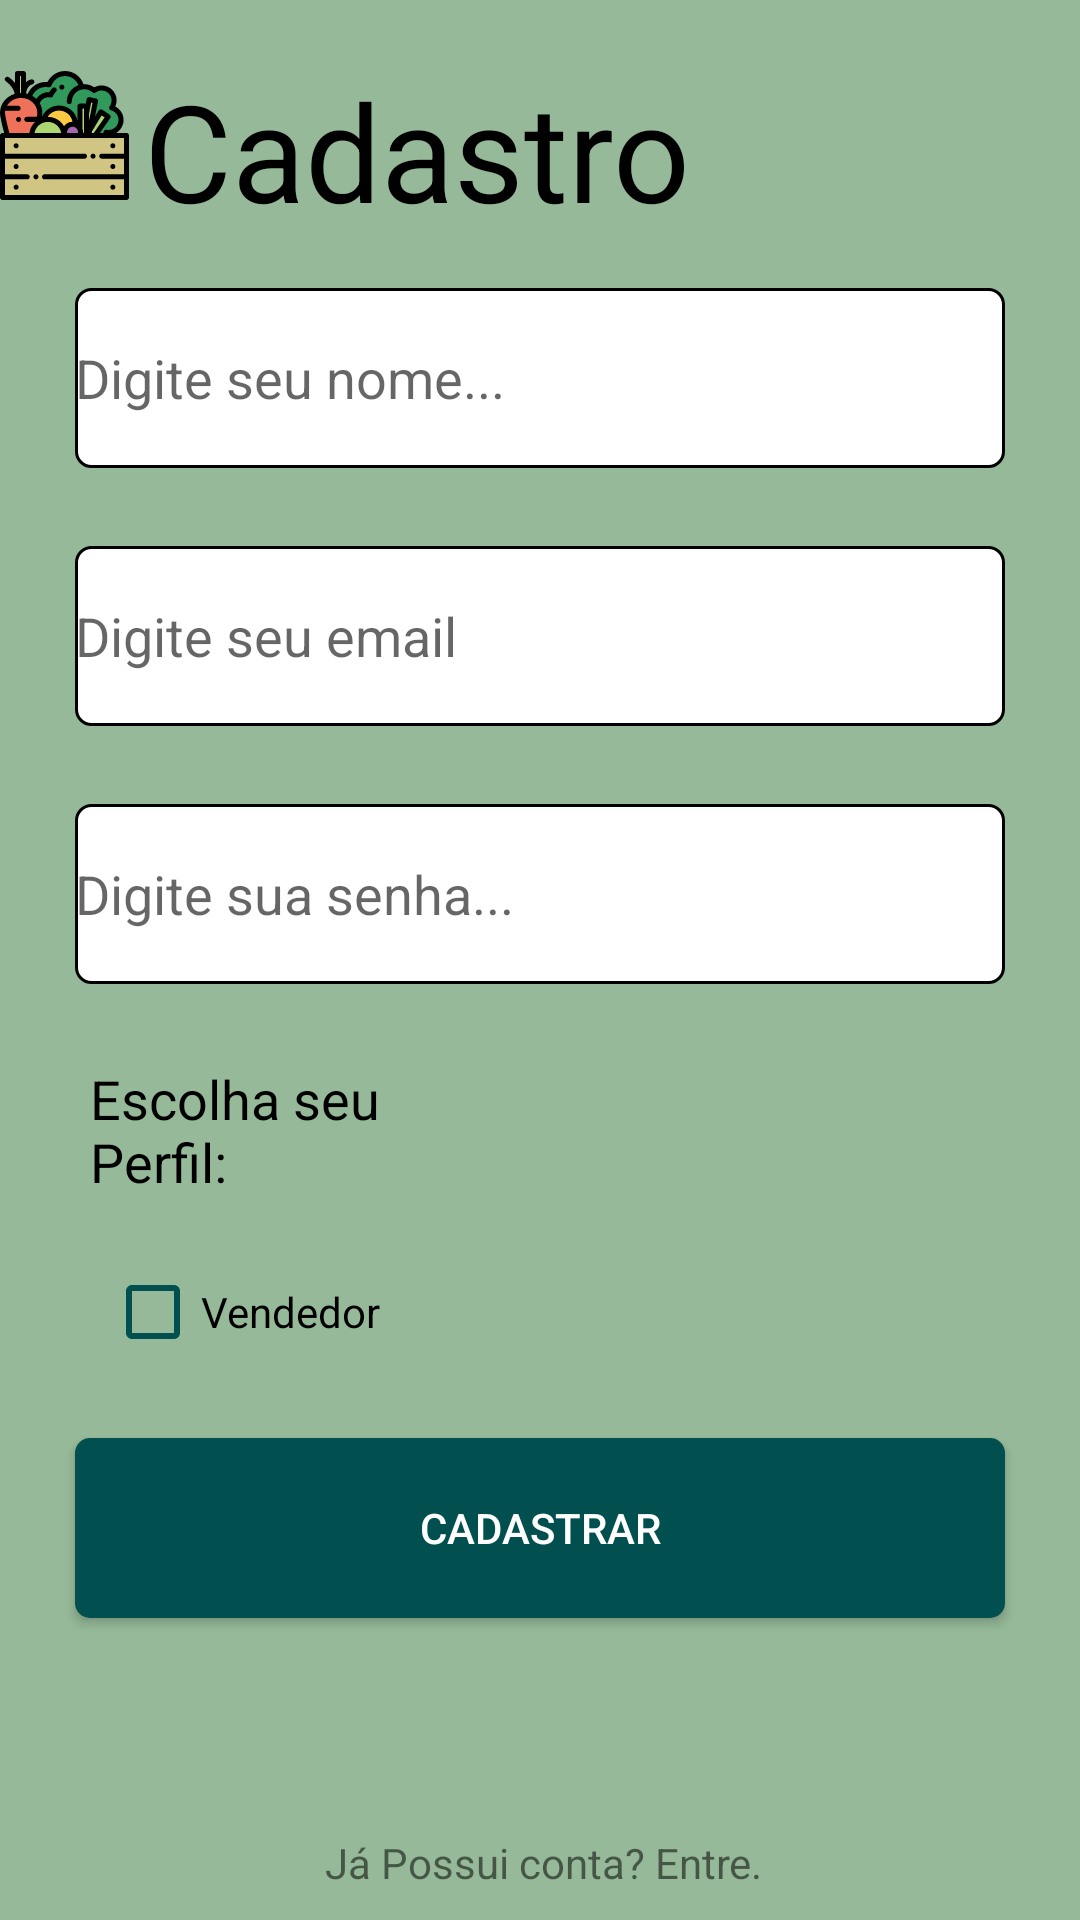

Icons on this 1080 x 1920 Android screen, each with its box as (x1, y1, x2, y2):
vegetables: (0, 71, 129, 200)
